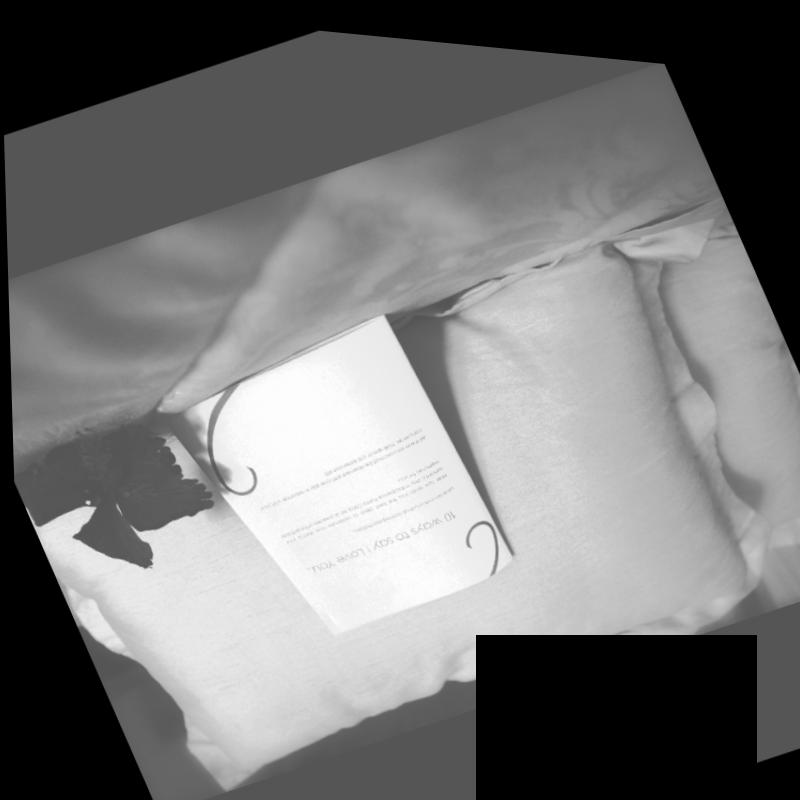pillow: (4, 153, 800, 800), (631, 202, 800, 550)
